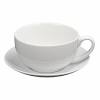cup: (14, 23, 96, 74)
